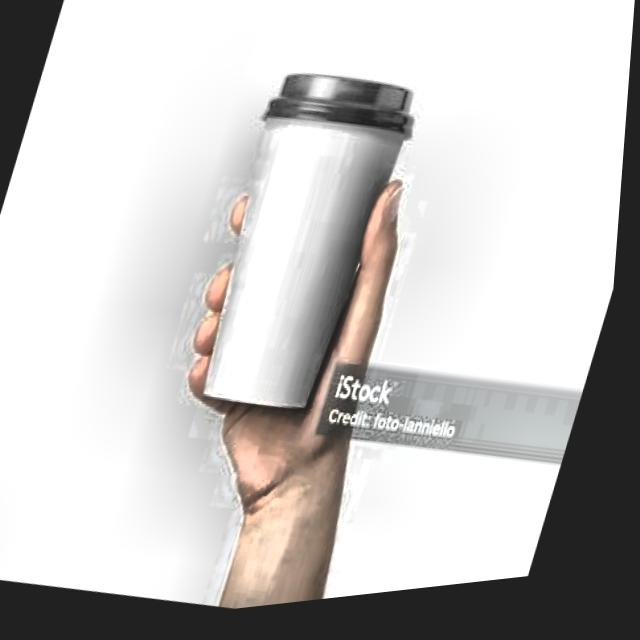Cup: (166, 62, 438, 447)
